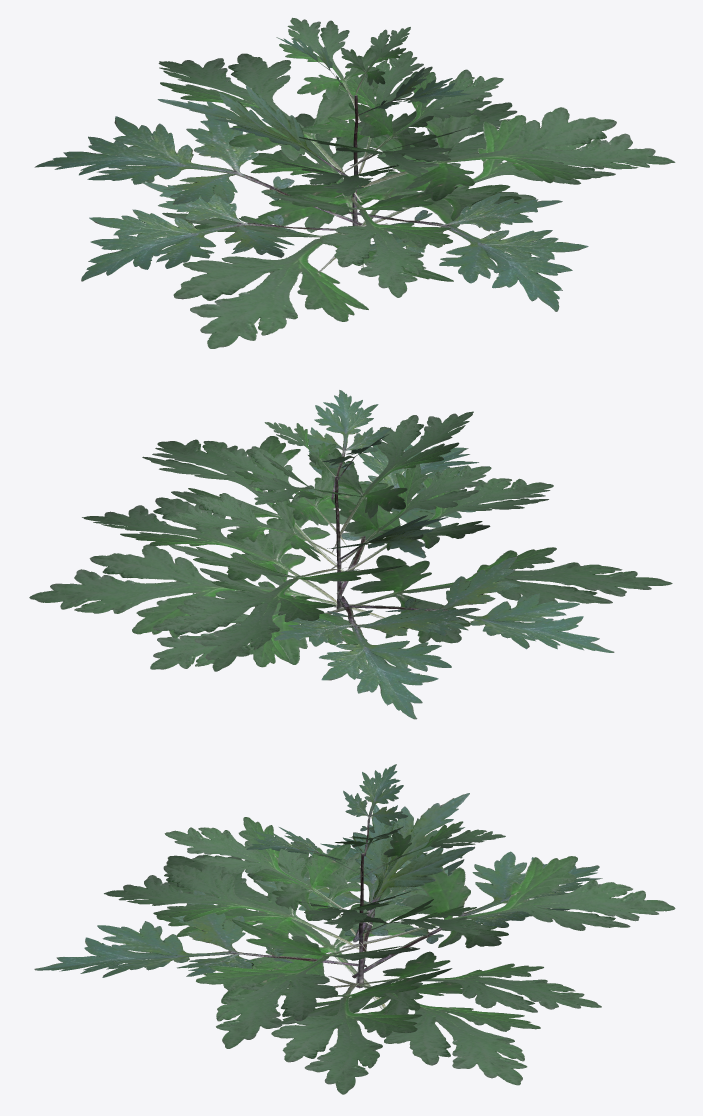
Rendered from Korean Mugwort_Type 02.fbx.
3 renders of one model, top to bottom at view 1: azimuth 30°, elevation 25°; view 2: azimuth 150°, elevation 25°; view 3: azimuth 270°, elevation 25°, orthographic.
Parts seen in each view (by area): view 1: Korean Mugwort_Type 02; view 2: Korean Mugwort_Type 02; view 3: Korean Mugwort_Type 02.
Boxes of the visible parts, x1=… form: Korean Mugwort_Type 02: x1=34, y1=17, x2=675, y2=348; Korean Mugwort_Type 02: x1=29, y1=390, x2=672, y2=719; Korean Mugwort_Type 02: x1=34, y1=764, x2=675, y2=1094.
Bounding box in the file's own units: 37.12 × 13.34 × 38.37.
